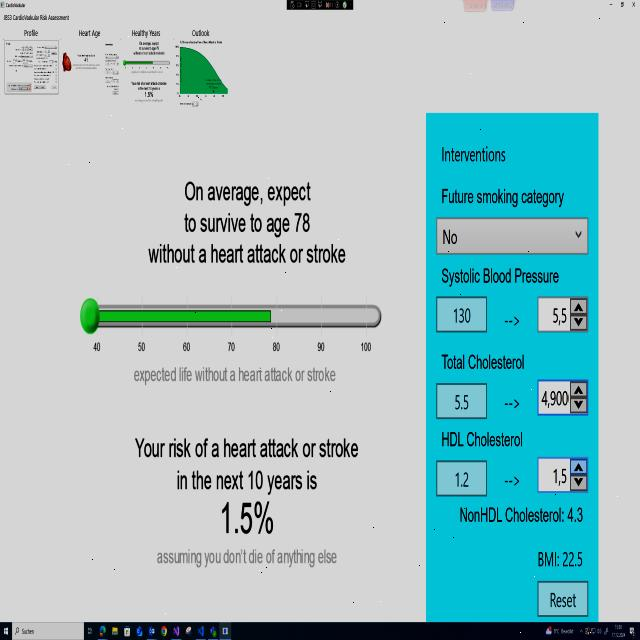button: (433, 294, 490, 338), (432, 458, 490, 501), (434, 381, 492, 422), (534, 578, 590, 620), (614, 0, 627, 11), (627, 0, 640, 11), (605, 0, 615, 10)
dropdownMenu: (432, 214, 590, 258), (553, 625, 583, 636)
icon: (196, 624, 205, 638), (629, 624, 637, 639), (135, 624, 143, 638), (160, 624, 168, 637), (172, 624, 180, 637), (210, 625, 218, 638), (98, 625, 106, 637), (123, 626, 131, 638), (148, 626, 156, 637), (185, 625, 192, 637), (546, 624, 552, 637), (112, 625, 118, 637), (3, 625, 9, 636), (584, 625, 590, 636), (87, 626, 93, 636), (596, 626, 602, 636), (604, 626, 609, 637), (591, 627, 596, 635)
input: (12, 621, 84, 640)
label: (438, 180, 568, 212), (456, 503, 589, 533), (439, 344, 529, 377), (438, 264, 562, 287), (438, 428, 526, 454), (437, 140, 512, 169), (533, 544, 587, 574), (502, 305, 526, 333), (2, 14, 70, 23), (129, 22, 163, 38), (501, 468, 522, 490), (501, 390, 521, 412), (74, 26, 104, 40), (190, 18, 210, 38), (20, 28, 41, 38)
menu: (0, 620, 640, 640)
tabControl: (219, 622, 232, 639)
upDown: (535, 291, 591, 338), (534, 373, 591, 419), (536, 453, 592, 497)
